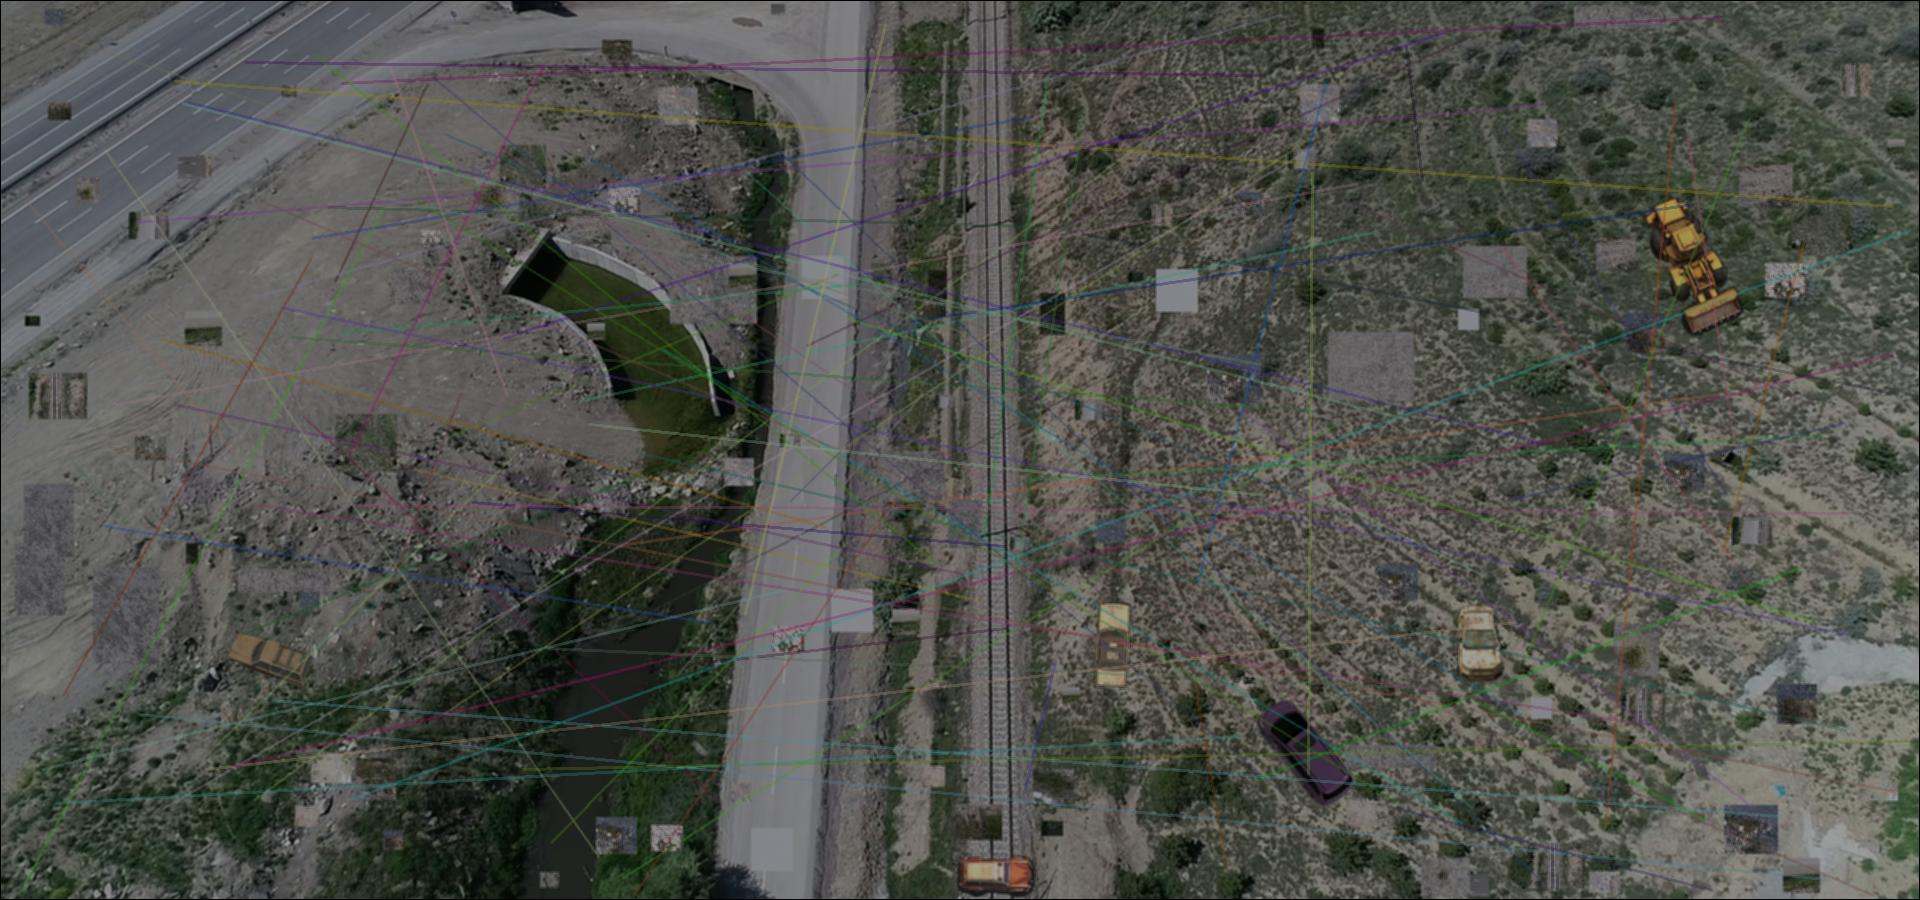arac: (1633, 197, 1752, 336), (1258, 699, 1354, 807), (227, 629, 315, 691), (1456, 604, 1505, 684), (1091, 602, 1134, 689), (956, 855, 1040, 898)
